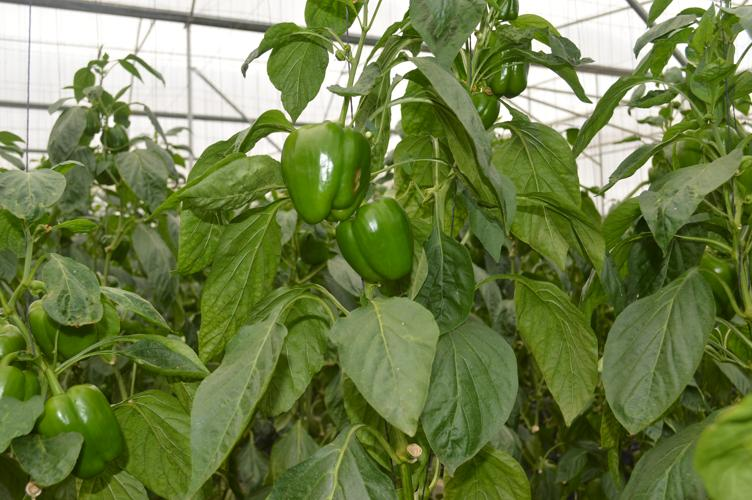BellPepper: (35, 385, 127, 473), (283, 121, 365, 219), (332, 200, 416, 284), (27, 298, 95, 357), (476, 34, 527, 94), (463, 89, 498, 129)
